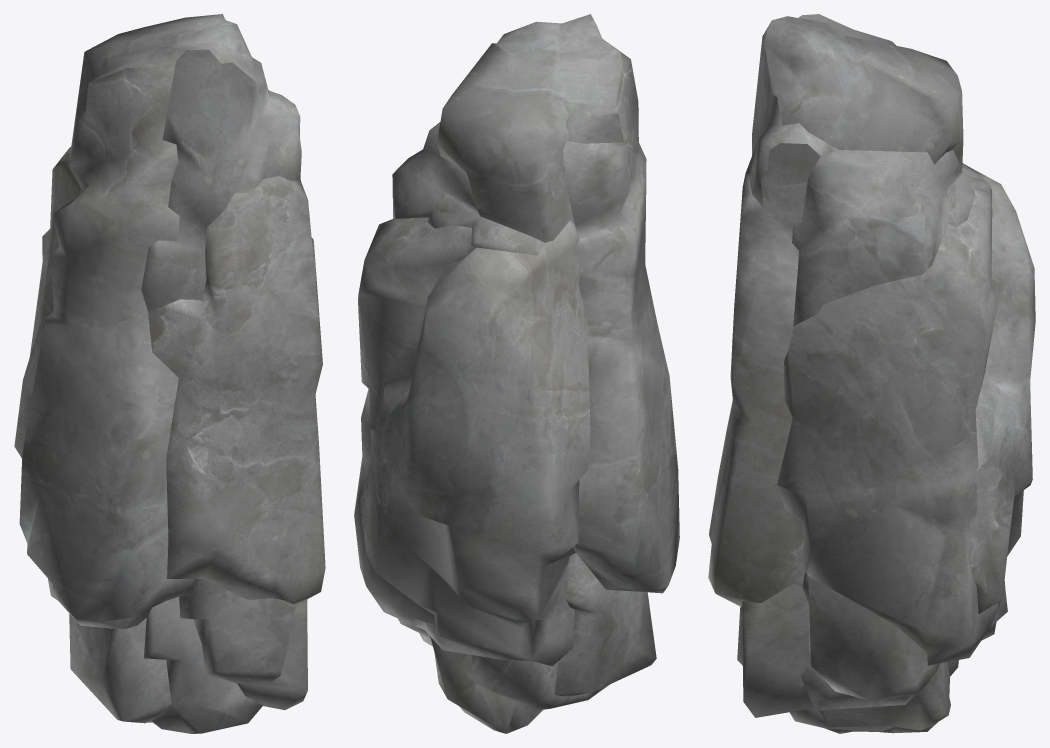
File: SM_Com_Roc_06AS.fbx
3 renders of one model, left to right at view 1: azimuth 30°, elevation 25°; view 2: azimuth 150°, elevation 25°; view 3: azimuth 270°, elevation 25°, orthographic. The views are drawn at different scales.
Visible parts, largest first — view 1: SM_Com_Roc_06AS.mo; view 2: SM_Com_Roc_06AS.mo; view 3: SM_Com_Roc_06AS.mo.
Part boxes in pixels (x1,y1,x2,y2): SM_Com_Roc_06AS.mo: (14,14,325,733); SM_Com_Roc_06AS.mo: (354,14,679,733); SM_Com_Roc_06AS.mo: (708,14,1035,733).
Size of the model in its own units: 11.69 by 28.55 by 12.34.
